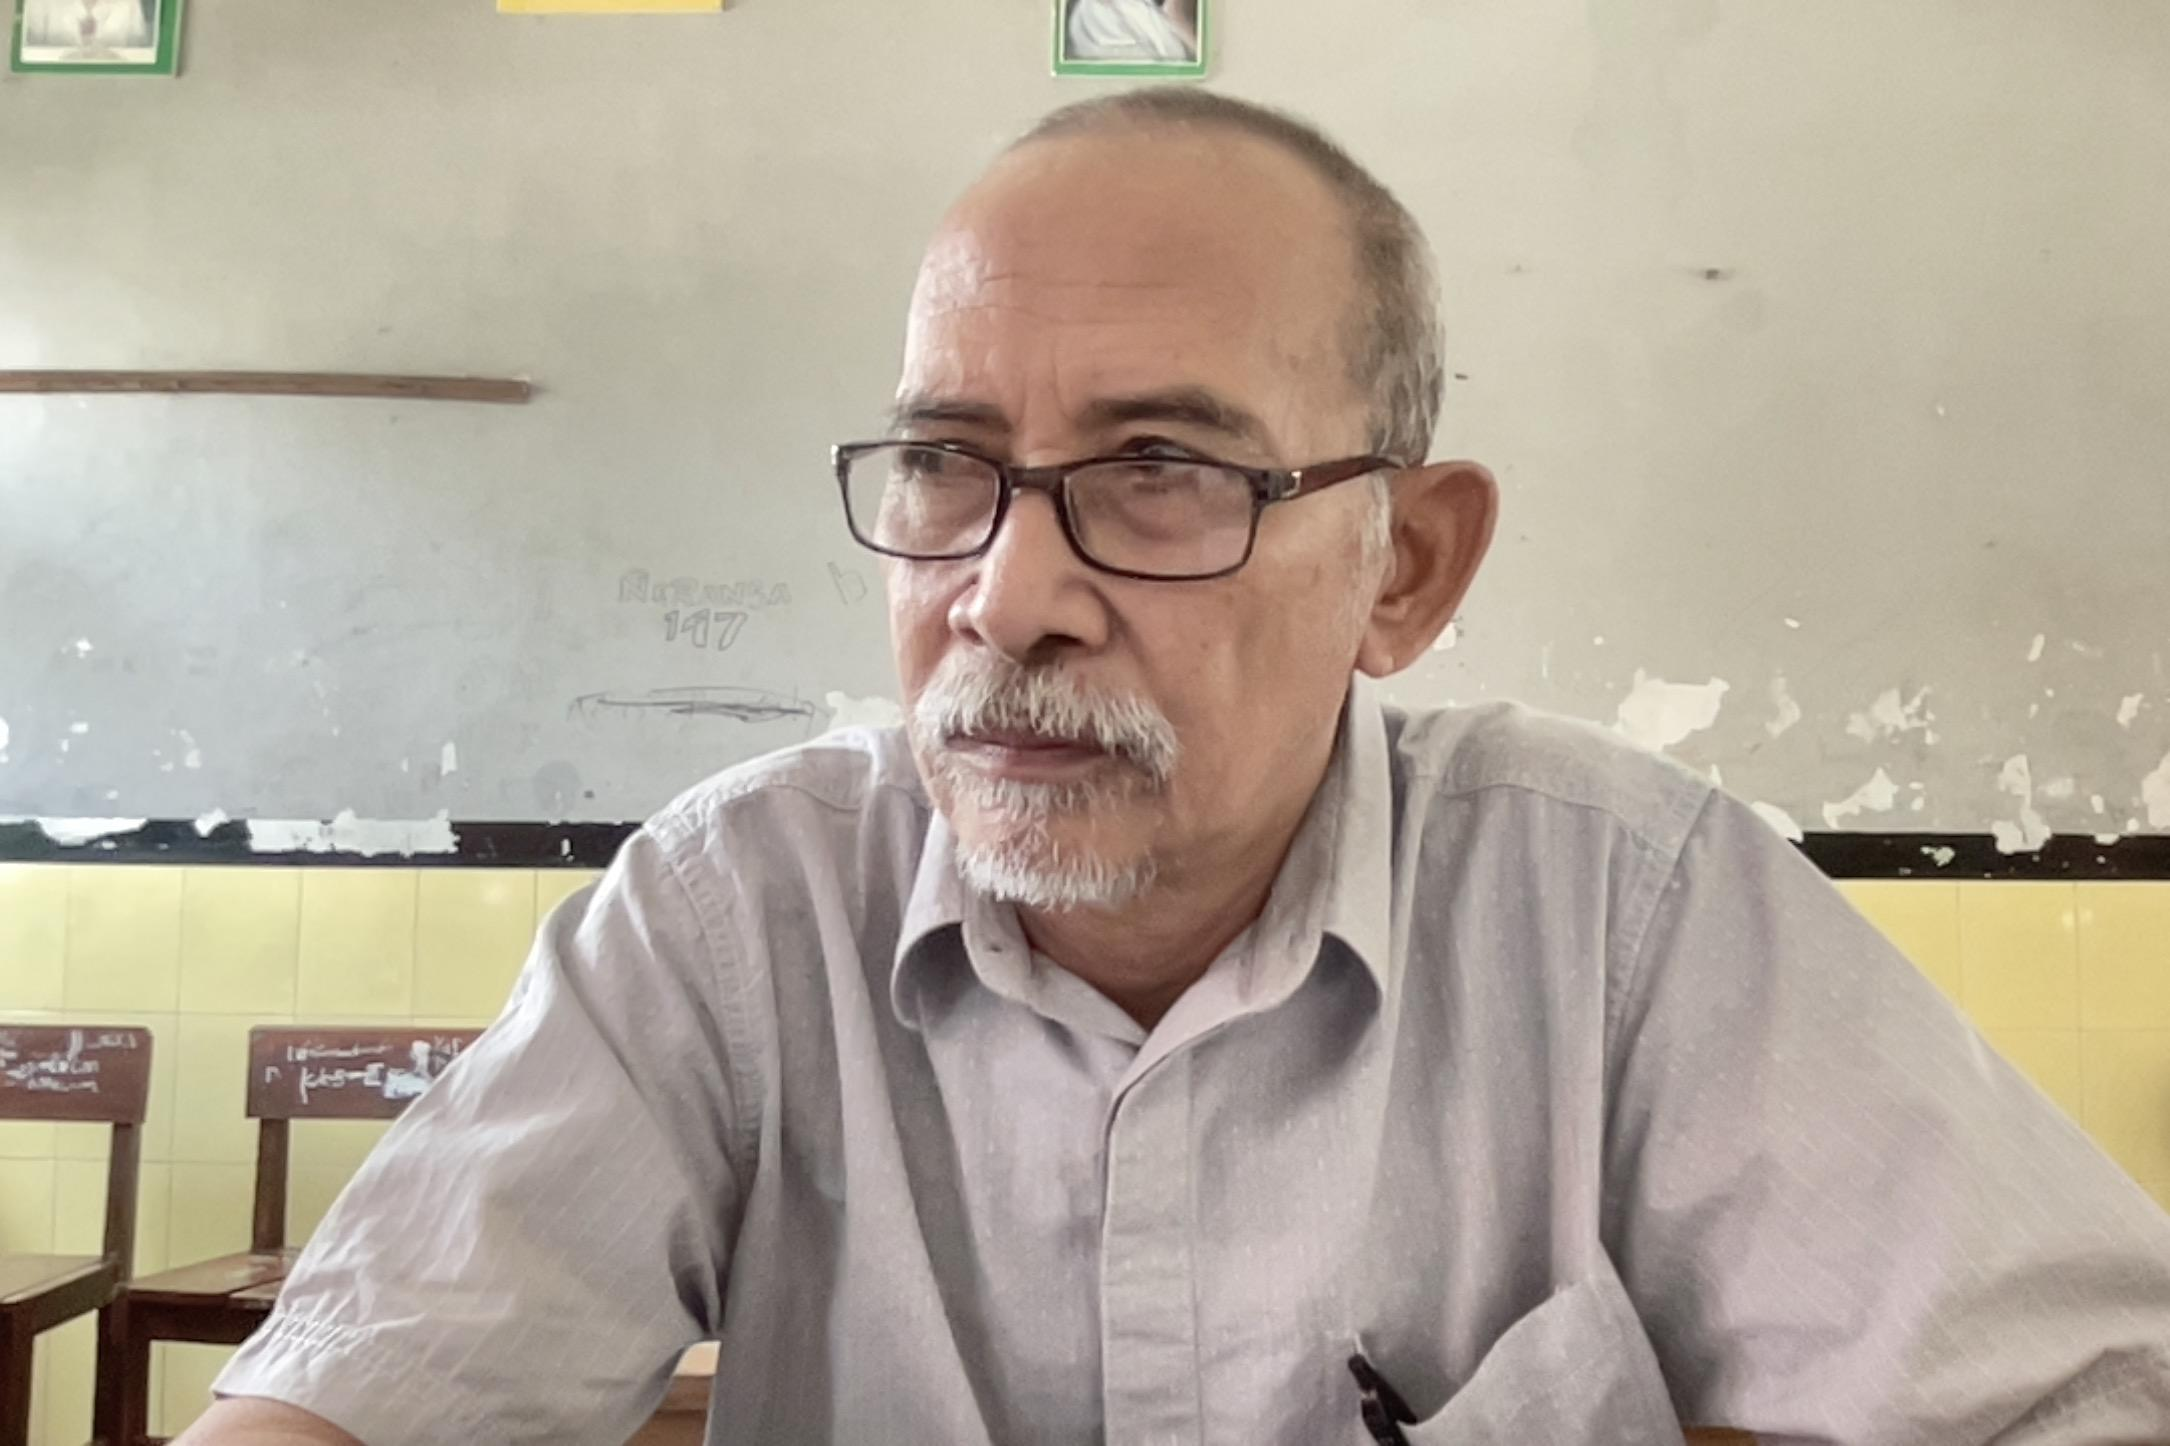cheating: (753, 71, 1588, 1043)
